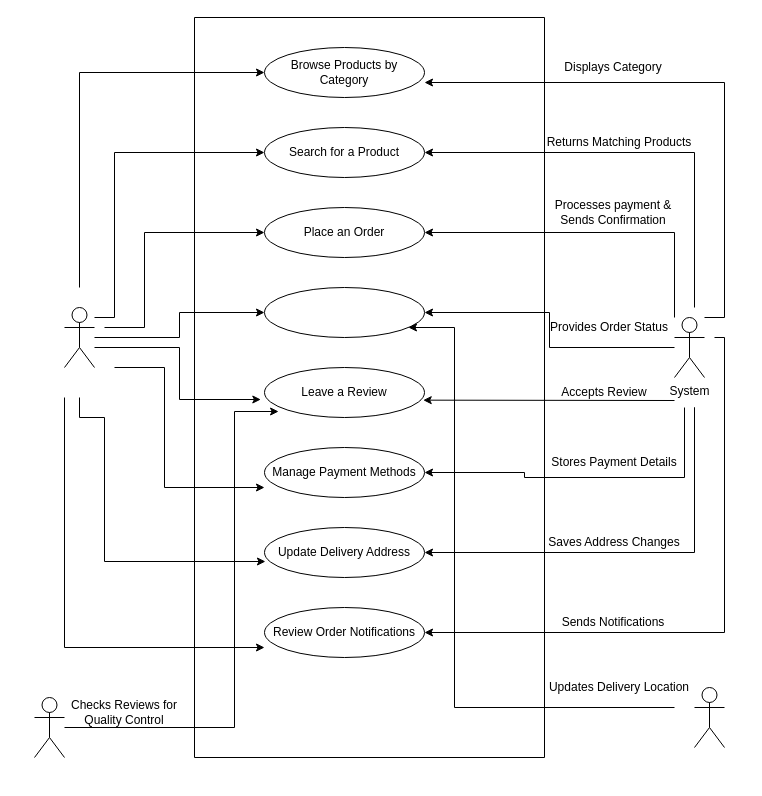
Image size: 762x796. Some labels were removed from this diagram. The shapes that lost their labels are listed below. From the top down, each one's box as (x1, y1, x2, y2) in pixels, then its label:
(264, 286, 424, 338): Track an Order in Real-Time
(64, 306, 94, 368): Customer
(34, 696, 64, 758): Store Admin
(694, 686, 724, 748): Delivery Staff
